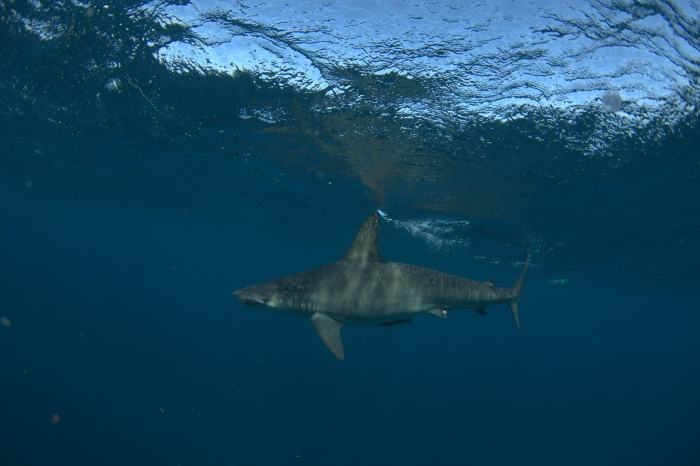Hammer: (209, 191, 548, 378)
